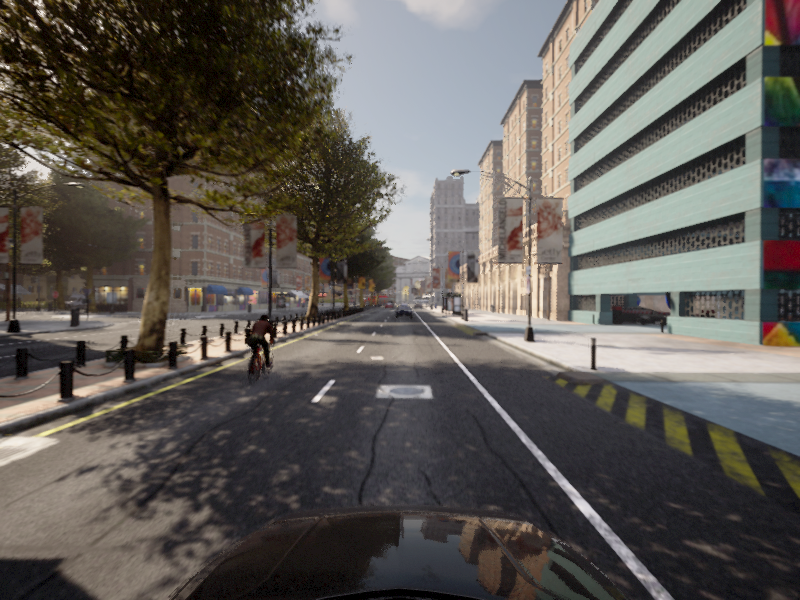vehicle: (235, 313, 284, 387), (395, 305, 412, 318)
